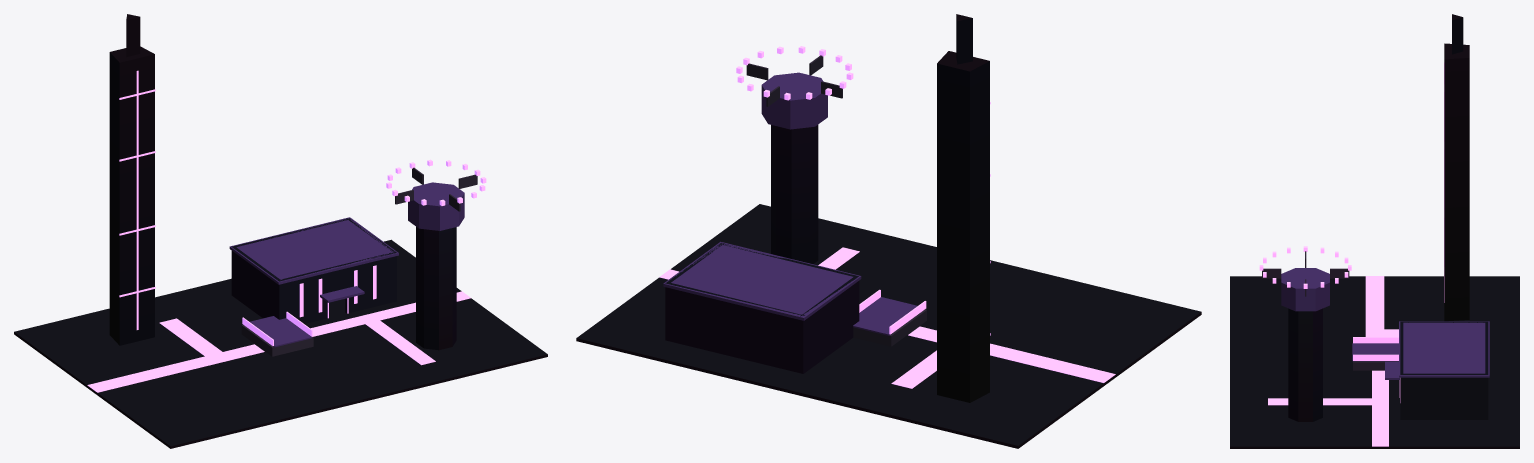
Rendered from shaddai_realm_landmarks_void_v01.glb.
3 views of the same model, side by side, from view 1: azimuth 30°, elevation 25°; view 2: azimuth 150°, elevation 25°; view 3: azimuth 270°, elevation 25° (orthographic). The views are drawn at different scales.
Parts seen in each view (by area): view 1: shaddai_landmark_void_station; view 2: shaddai_landmark_void_station; view 3: shaddai_landmark_void_station.
Part boxes in pixels (bbox=[...]): shaddai_landmark_void_station: bbox=[14, 14, 547, 448]; shaddai_landmark_void_station: bbox=[576, 14, 1201, 448]; shaddai_landmark_void_station: bbox=[1230, 14, 1519, 448].
Size of the model in its own units: 64 by 52.3 by 46.
